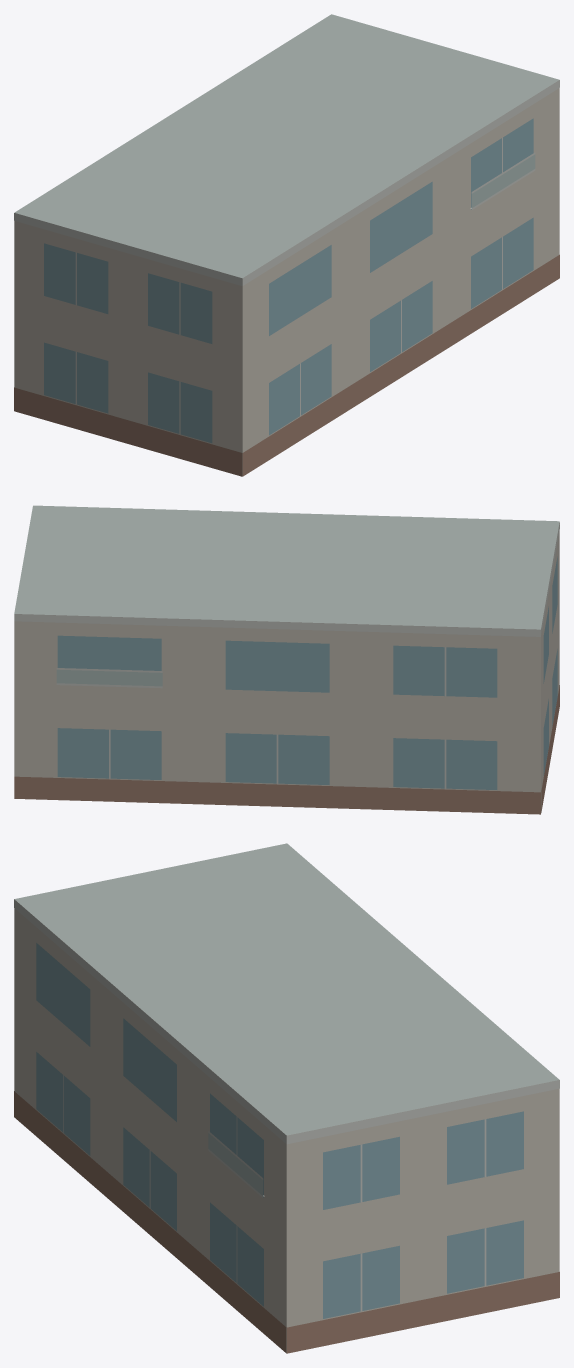
File: survey-upis-32745152.glb
The picture shows the model from 3 angles, top to bottom: view 1: azimuth 30°, elevation 25°; view 2: azimuth 150°, elevation 25°; view 3: azimuth 270°, elevation 25°; orthographic projection. The views are drawn at different scales.
Visible parts, largest first — view 1: survey-upis-32745152.tmp; view 2: survey-upis-32745152.tmp; view 3: survey-upis-32745152.tmp.
Boxes of the visible parts, box(x1,y1,x2,y2) form: survey-upis-32745152.tmp: box(14, 14, 559, 476); survey-upis-32745152.tmp: box(14, 505, 559, 814); survey-upis-32745152.tmp: box(14, 843, 559, 1353).
Size of the model in its own units: 17.56 by 6.1 by 13.85.
